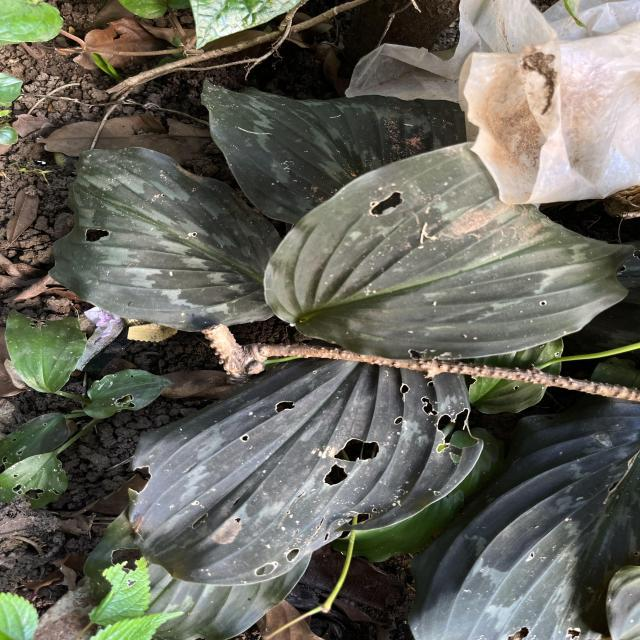Kaempferia galanga linn: (46, 144, 284, 333), (198, 76, 471, 228)
